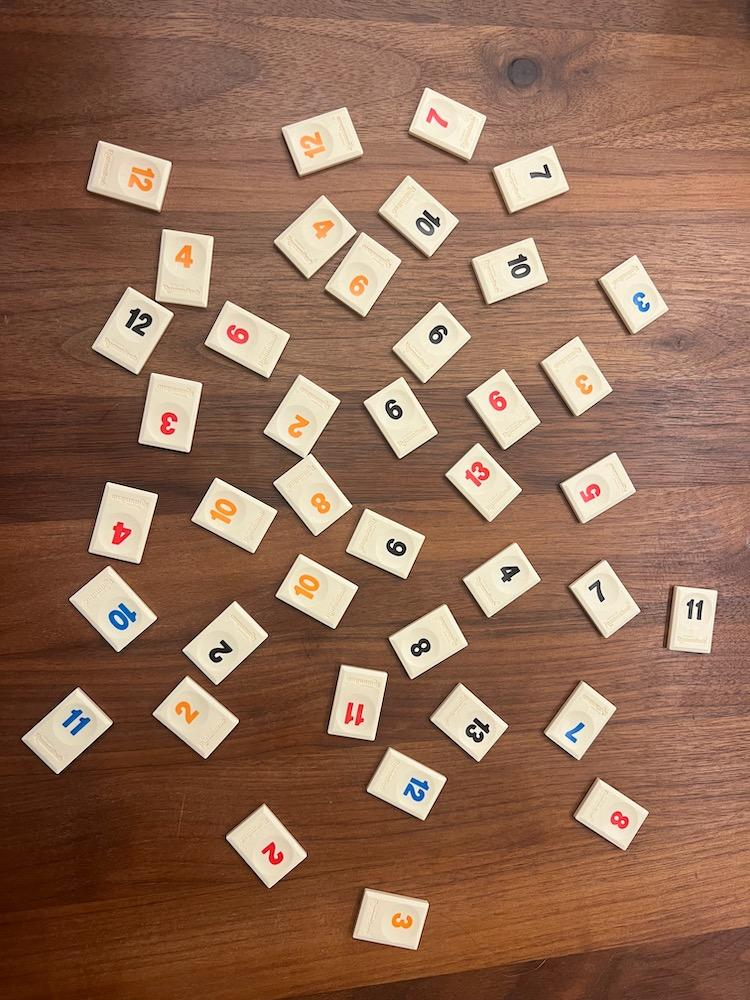black_10: (379, 176, 459, 256), (473, 238, 547, 305)
black_11: (668, 586, 717, 654)
black_12: (92, 287, 174, 373)
black_13: (430, 684, 508, 762)
black_2: (184, 602, 268, 684)
black_4: (463, 543, 539, 617)
black_6: (393, 303, 471, 383), (365, 377, 438, 459)
black_7: (570, 561, 641, 637), (494, 146, 568, 213)
black_8: (389, 605, 467, 678)
black_9: (347, 510, 424, 578)
blue_10: (70, 566, 156, 652)
blue_11: (21, 689, 111, 773)
blue_12: (368, 748, 445, 820)
blue_3: (601, 256, 668, 334)
blue_7: (545, 682, 615, 760)
orange_10: (191, 479, 277, 553), (275, 555, 357, 629)
orange_12: (89, 141, 172, 211), (281, 107, 363, 176)
orange_2: (152, 676, 238, 758), (264, 375, 340, 457)
orange_3: (541, 338, 611, 416), (354, 889, 428, 949)
orange_4: (275, 195, 355, 277), (156, 229, 213, 307)
orange_8: (273, 453, 352, 535)
orange_9: (326, 232, 400, 316)
red_11: (328, 664, 387, 740)
red_13: (445, 443, 521, 521)
red_2: (227, 805, 307, 887)
red_3: (139, 373, 201, 453)
red_4: (88, 482, 158, 564)
red_5: (561, 453, 635, 523)
red_6: (205, 301, 289, 377), (467, 369, 539, 449)
red_7: (410, 88, 486, 160)
red_8: (574, 779, 648, 850)
